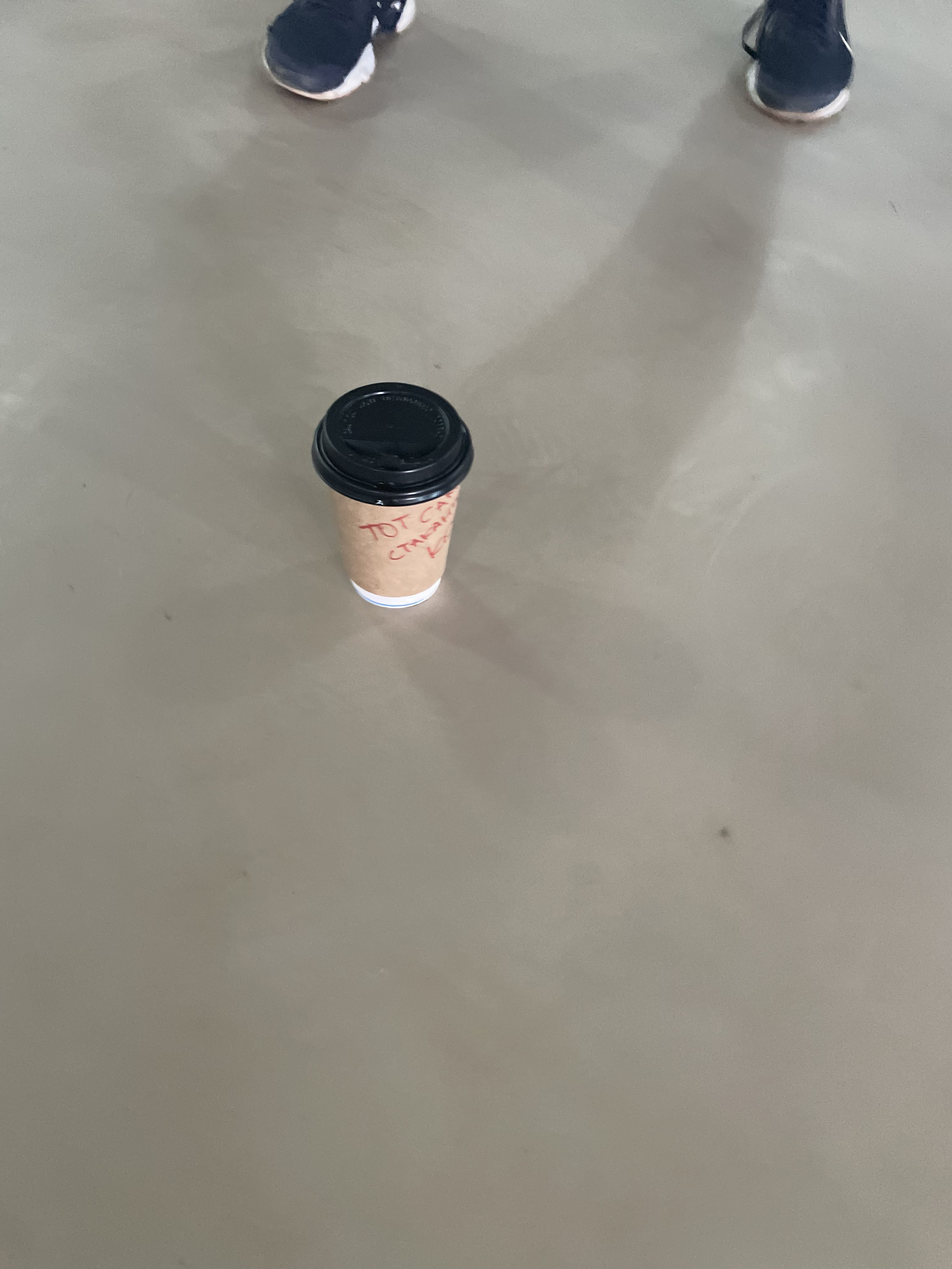cup: (311, 382, 475, 608)
